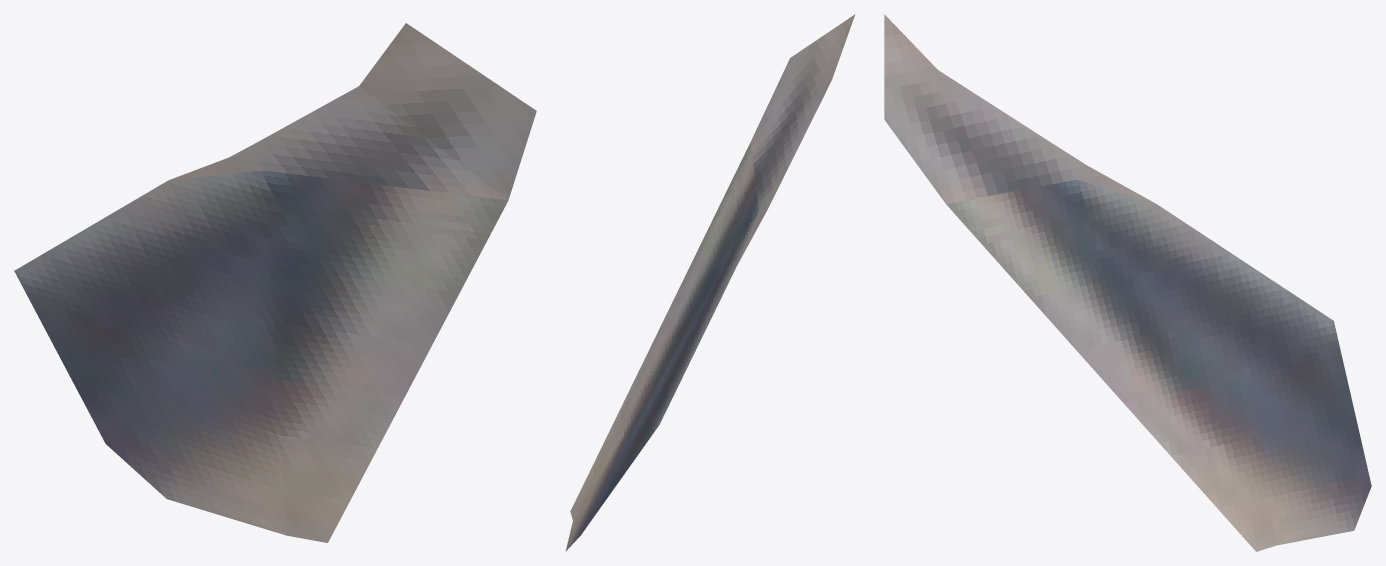
The model's file is Tile__003__007_L21_0004300.glb.
3 renders of one model, left to right at view 1: azimuth 30°, elevation 25°; view 2: azimuth 150°, elevation 25°; view 3: azimuth 270°, elevation 25°, orthographic. The views are drawn at different scales.
Parts seen in each view (by area): view 1: root; view 2: root; view 3: root.
Boxes of the visible parts, x1=… form: root: x1=14, y1=23, x2=536, y2=542; root: x1=565, y1=14, x2=855, y2=551; root: x1=884, y1=14, x2=1371, y2=551.
Size of the model in its own units: 1.86 by 5.89 by 5.55.
1 material, 1 textured.
